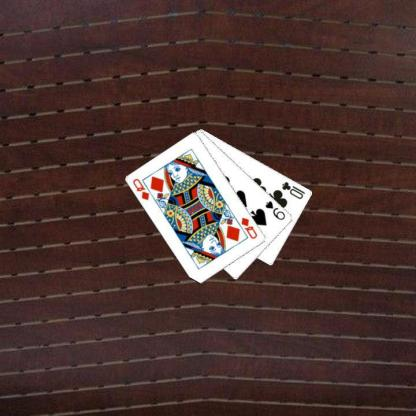10C: (280, 179, 307, 201)
9S: (263, 198, 286, 221)
QD: (130, 176, 151, 202), (238, 215, 258, 240)
